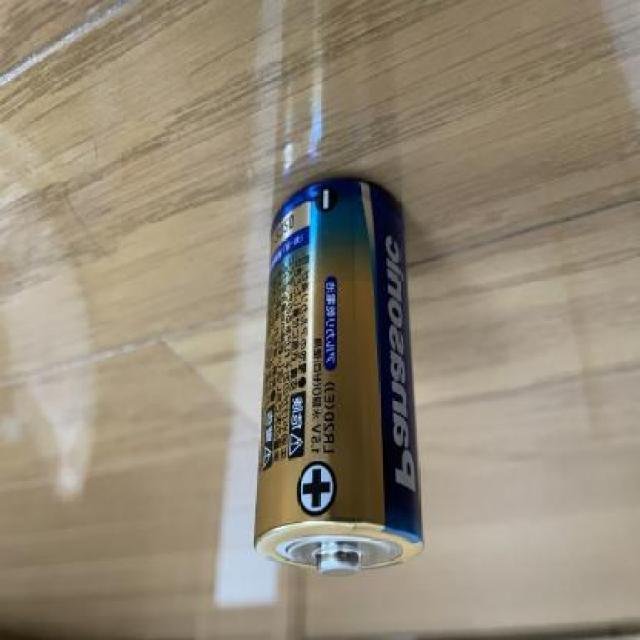hazardous waste: (251, 174, 431, 602)
